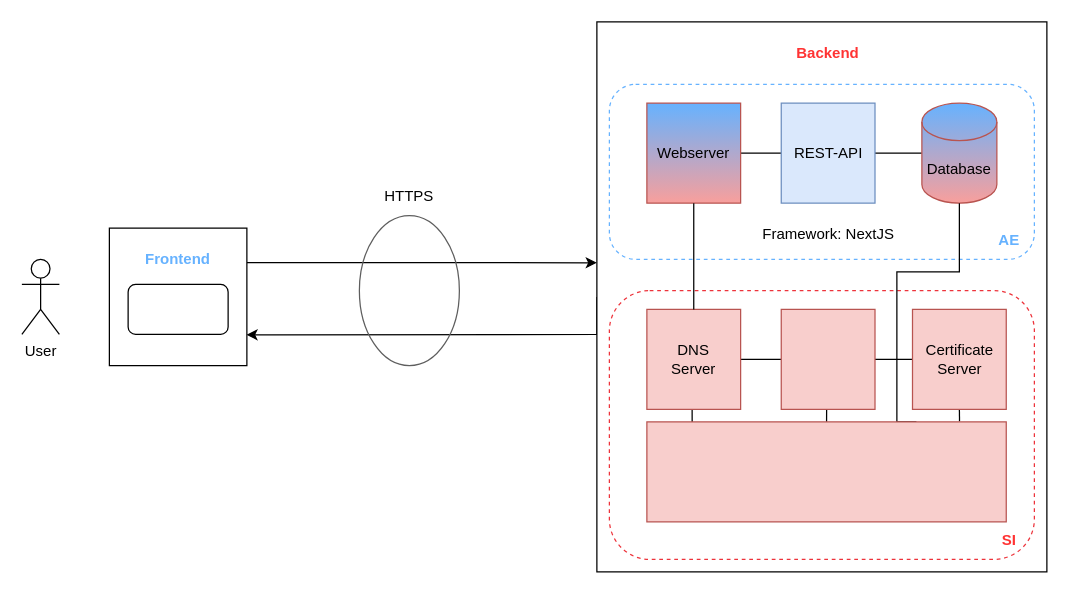
Some shapes in this 1069 by 594 pixel diagram are drawn without their labels. The shapes that lost their labels are listed below. From the top down, each one's centre as x and y in pixels, then its label:
At pixel 177 308: "Browser".
At pixel 827 358: "Firewall Server".
At pixel 826 471: "DHCP Server".
